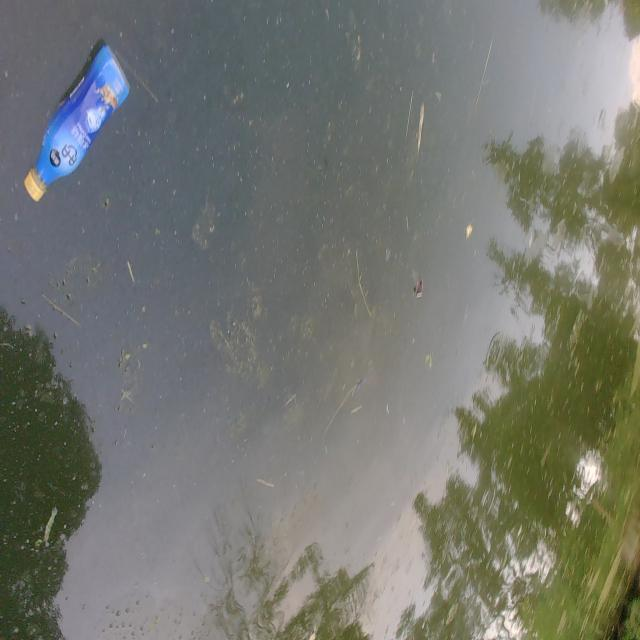bottle: (13, 8, 142, 222)
